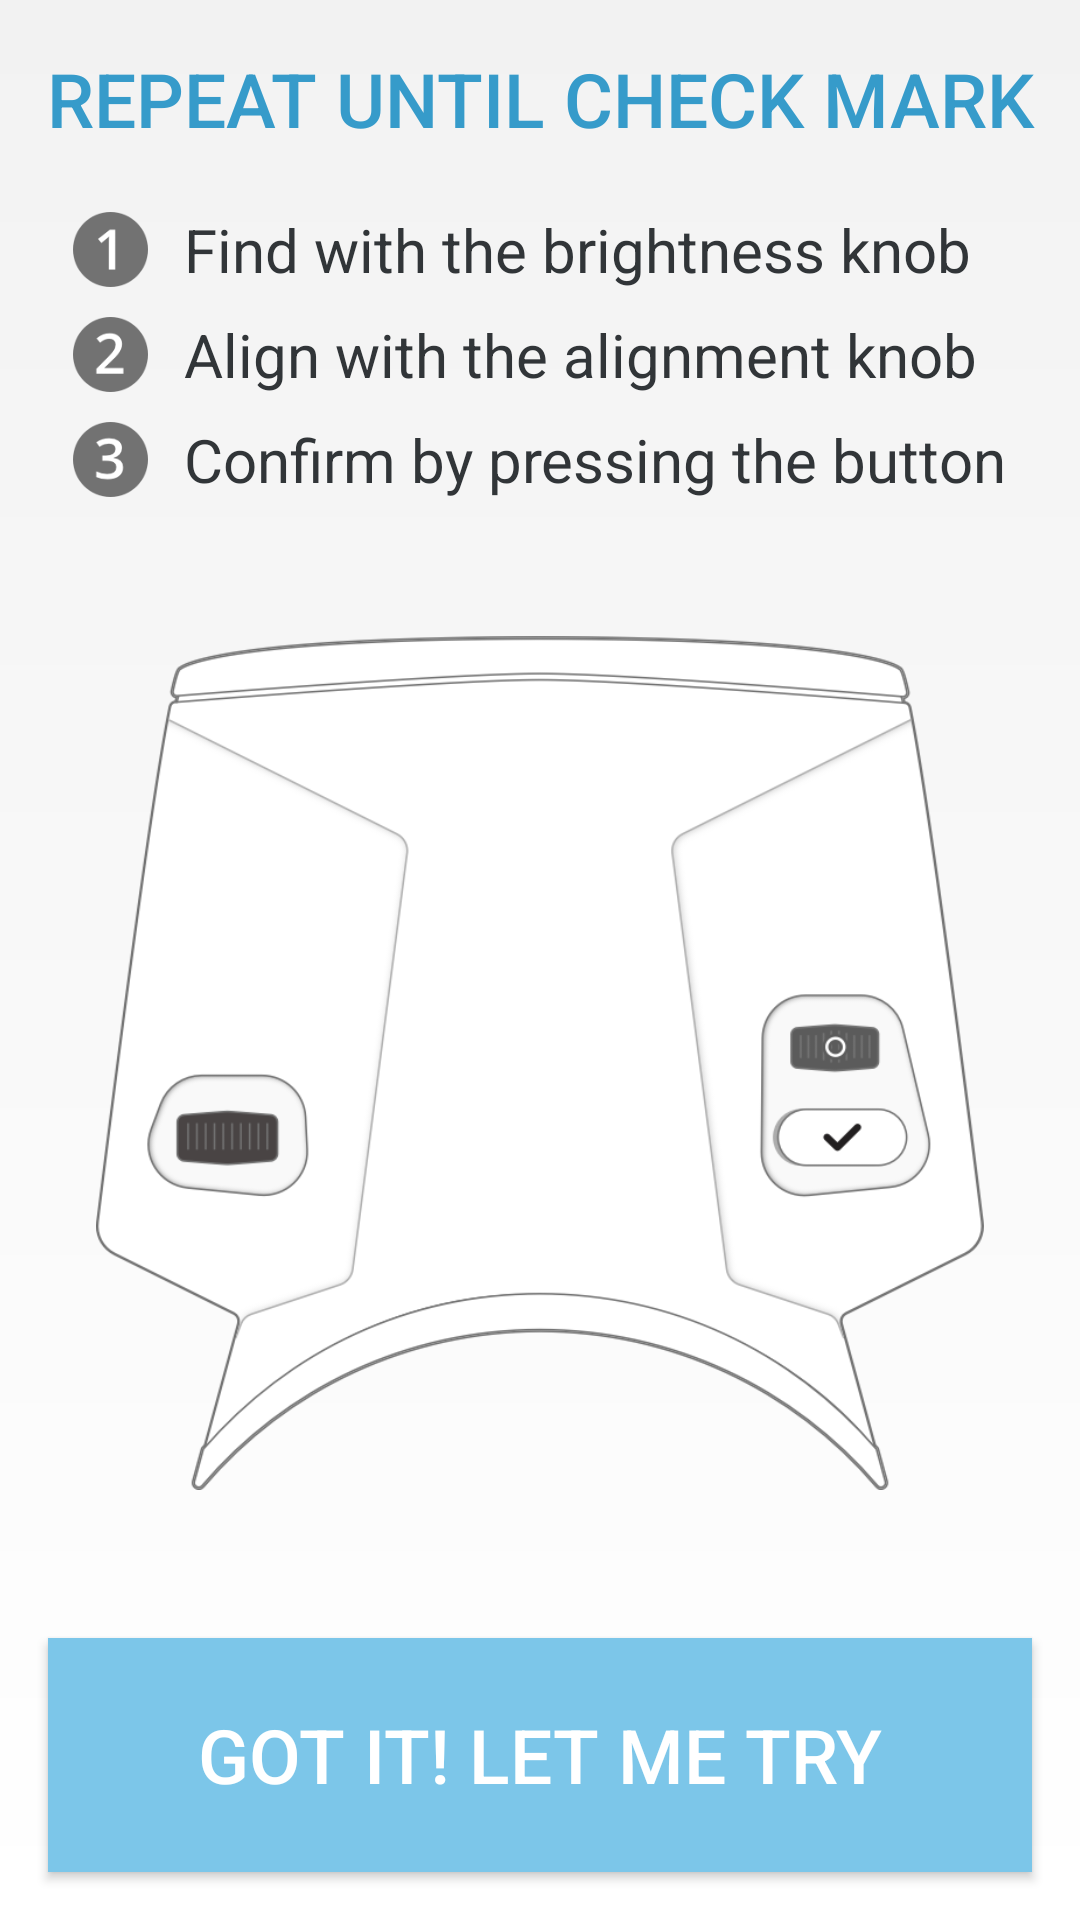

Where to tap for icons on this 1080x1920 app screen, as [x,y]:
bullet: [110,249], [110,354], [110,459]
